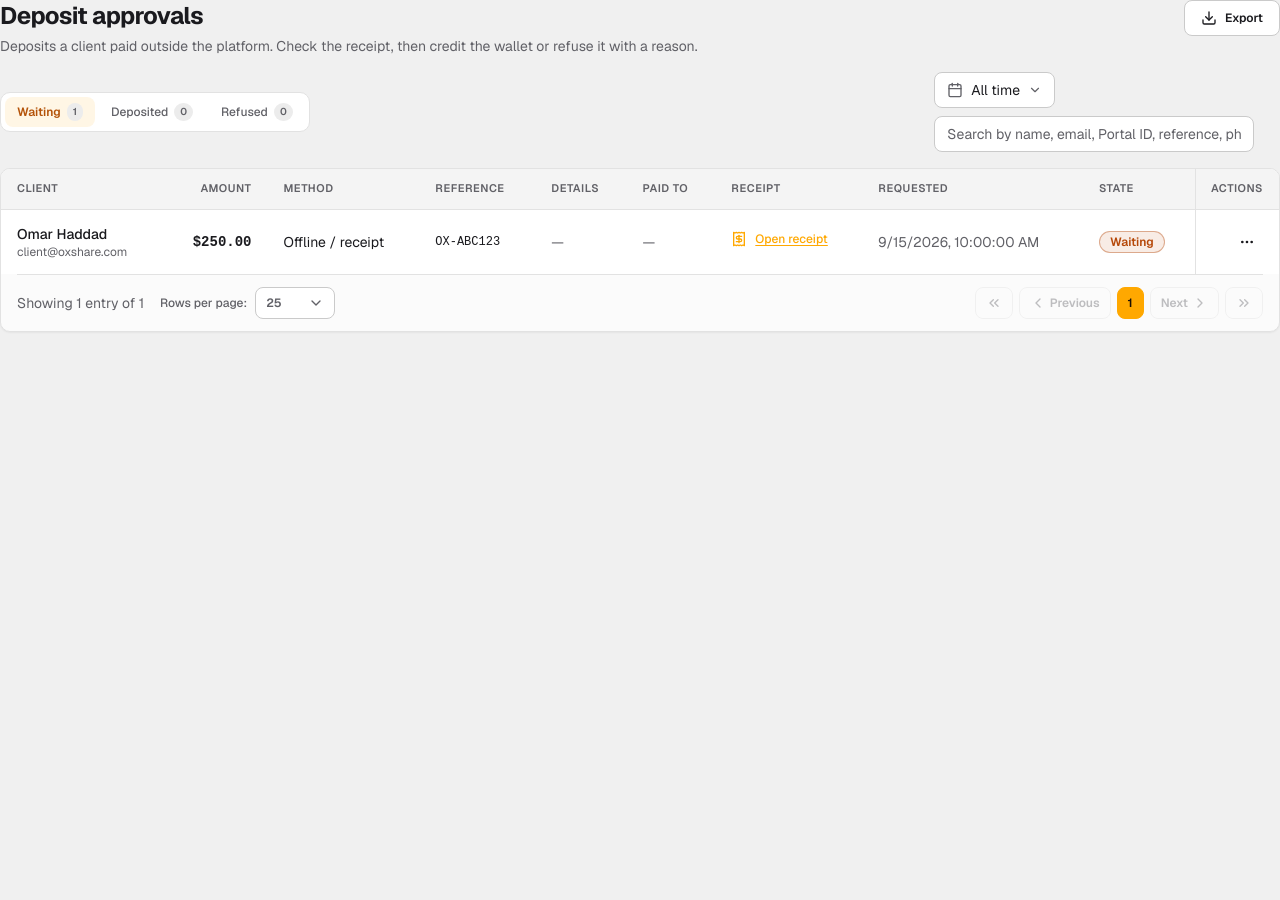
the offline deposit queue › tells the operator a refusal returns nothing
expect the text "Omar Haddad" is shown: met, box x1=17 y1=224 x2=107 y2=244
Click the button named "deposit actions".
click(1247, 242)  # box x1=1231 y1=226 x2=1263 y2=258
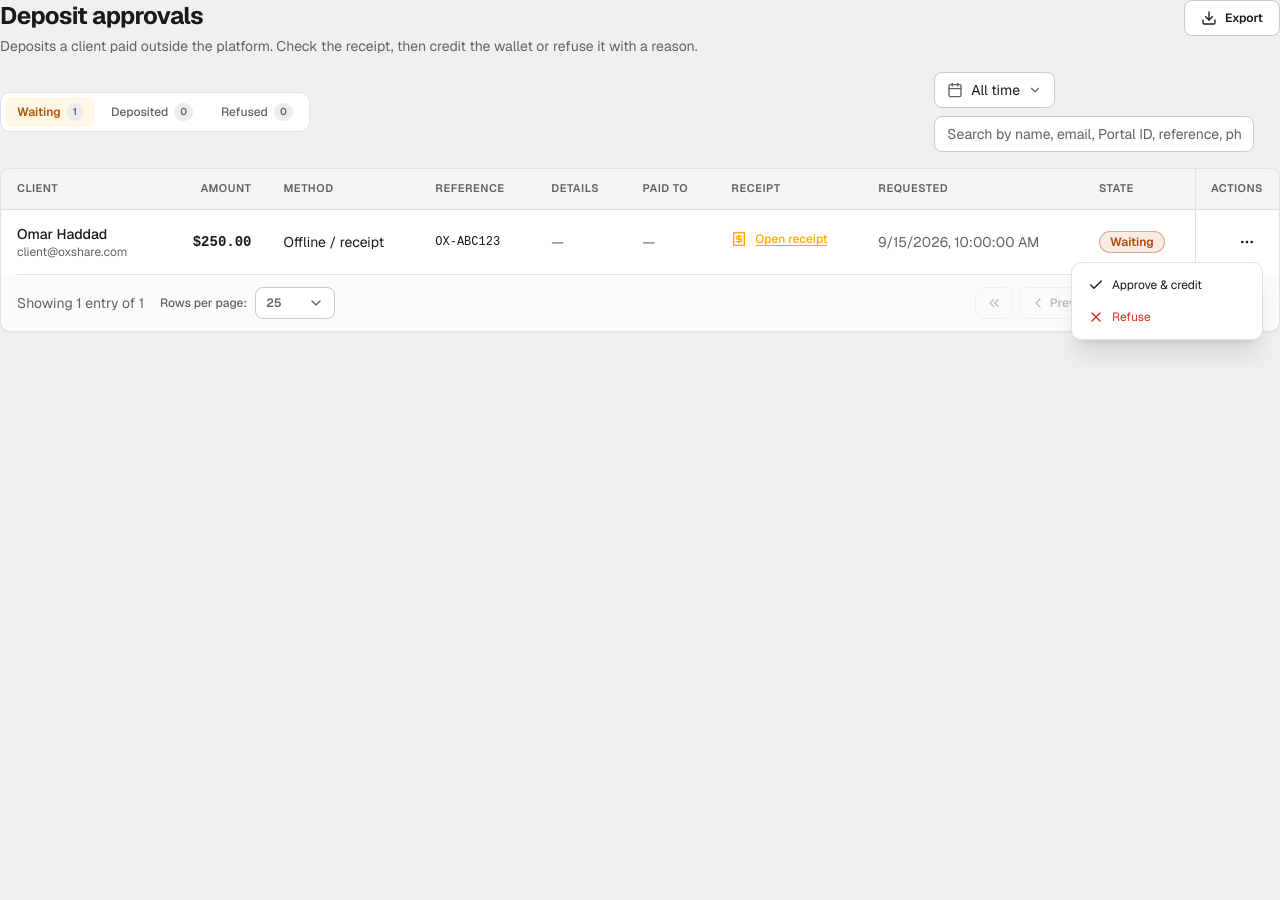
Click the menu item "Refuse".
click(1119, 317)  # box x1=1088 y1=309 x2=1151 y2=325
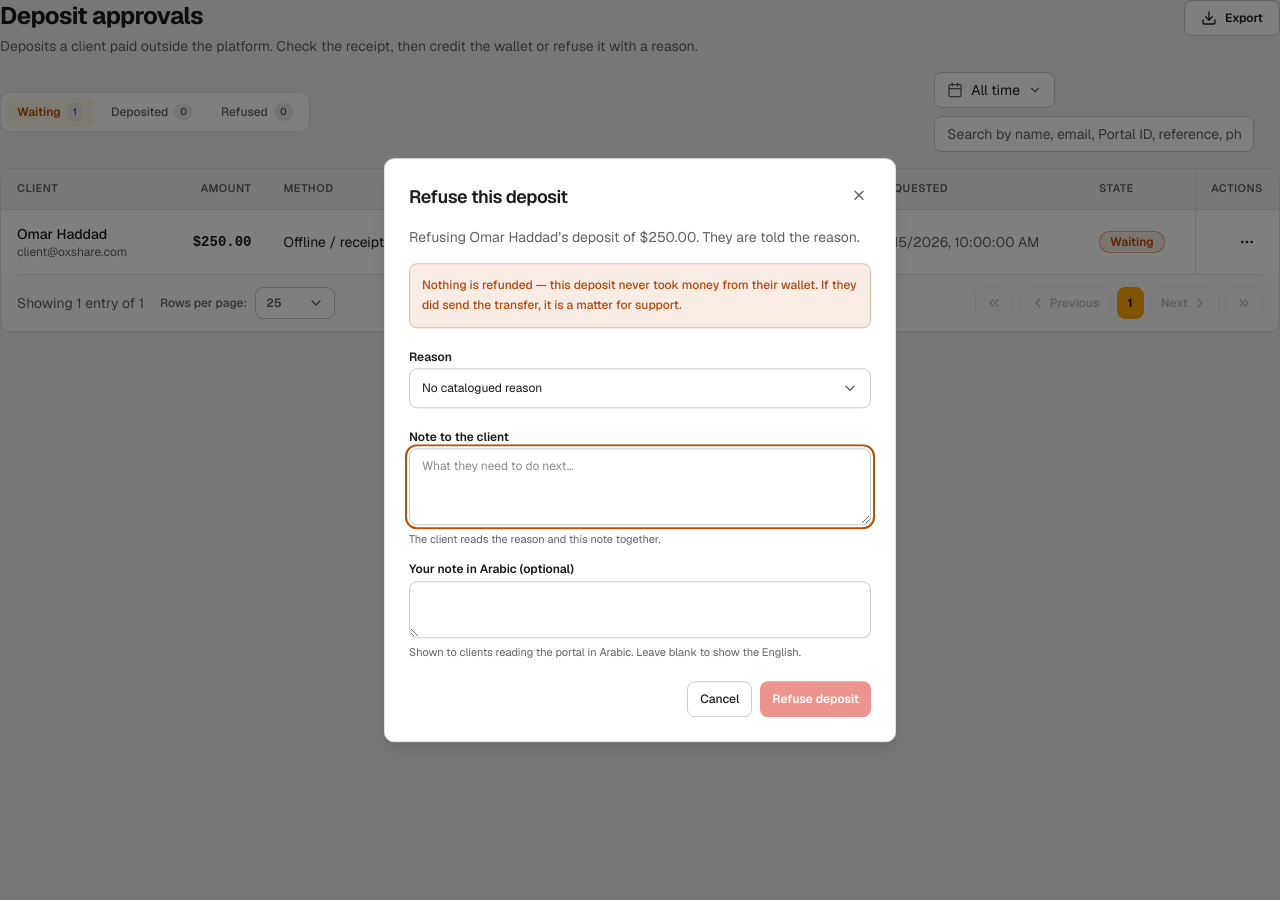
expect the text "Nothing is refunded" is shown: met, box x1=422 y1=277 x2=857 y2=313
